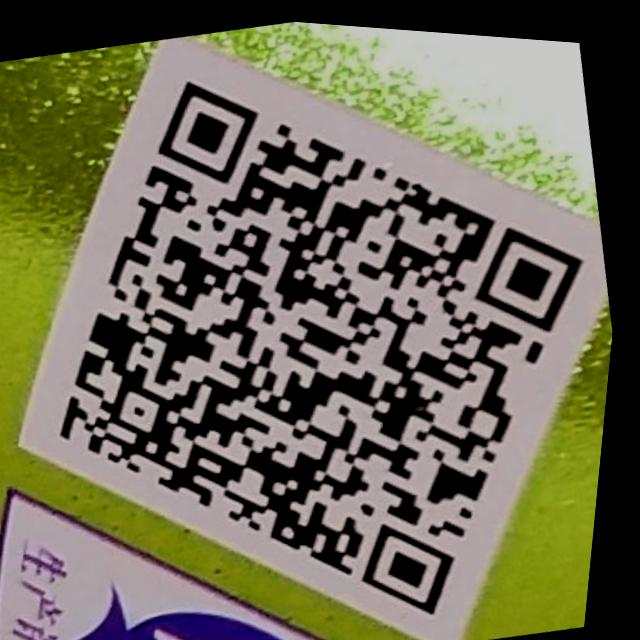QR_CODE: (0, 2, 640, 640)
